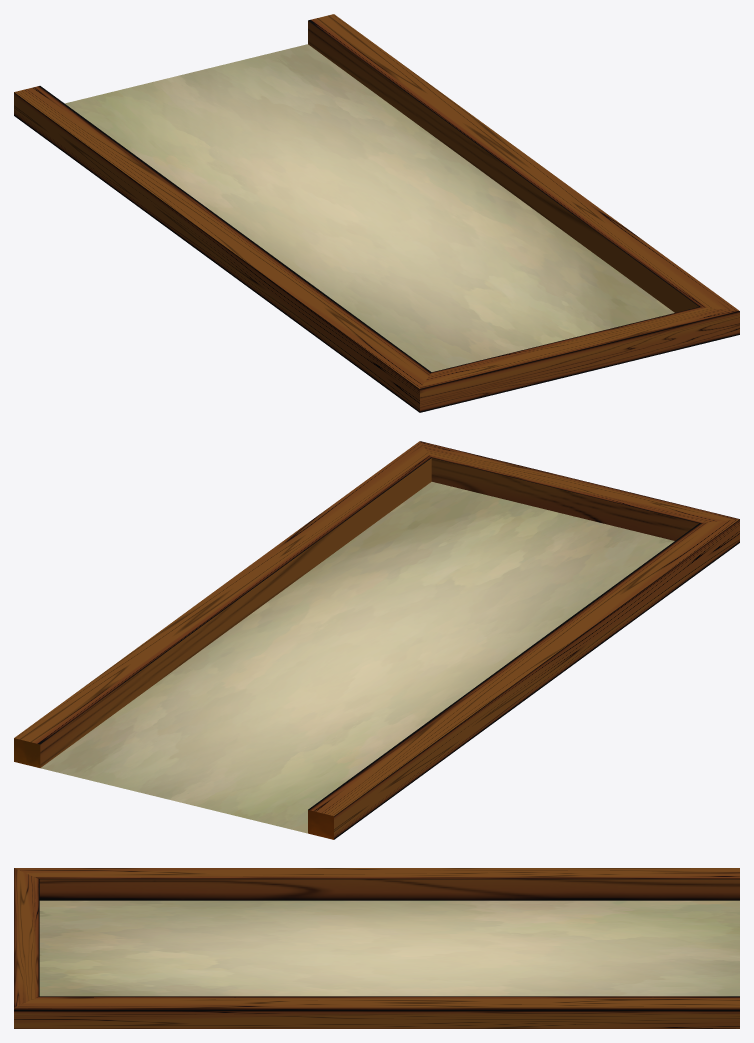
File: Medieval_House_05_024.fbx
3 renders of one model, top to bottom at view 1: azimuth 30°, elevation 25°; view 2: azimuth 150°, elevation 25°; view 3: azimuth 270°, elevation 25°, orthographic. The views are drawn at different scales.
Parts seen in each view (by area): view 1: Medieval_House_05.024; view 2: Medieval_House_05.024; view 3: Medieval_House_05.024.
Boxes of the visible parts, x1,y1,x2,y2 form: Medieval_House_05.024: (14,14,739,412); Medieval_House_05.024: (14,441,739,839); Medieval_House_05.024: (14,868,739,1028).
Size of the model in its own units: 116 by 8.22 by 255.
